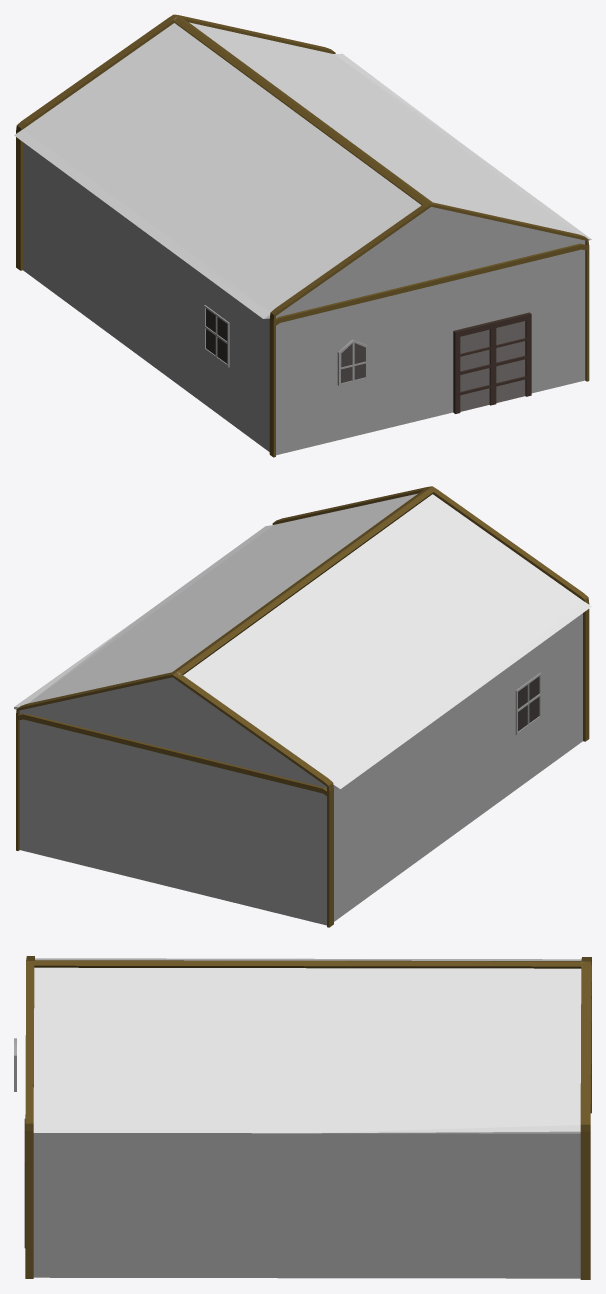
File: building3.fbx
3 renders of one model, top to bottom at view 1: azimuth 30°, elevation 25°; view 2: azimuth 150°, elevation 25°; view 3: azimuth 270°, elevation 25°, orthographic. The views are drawn at different scales.
Parts seen in each view (by area): view 1: pCube29, polySurface50, pCube35, pCube34; view 2: pCube29, pCube34; view 3: pCube29.
Part boxes in pixels (<box>): pCube29: <box>14,14,591,457</box>; polySurface50: <box>453,312,531,413</box>; pCube35: <box>337,339,367,385</box>; pCube34: <box>204,305,229,367</box>; pCube29: <box>14,486,591,927</box>; pCube34: <box>515,672,541,734</box>; pCube29: <box>25,956,591,1279</box>.
Bounding box in the file's own units: 744 × 464 × 1035.
